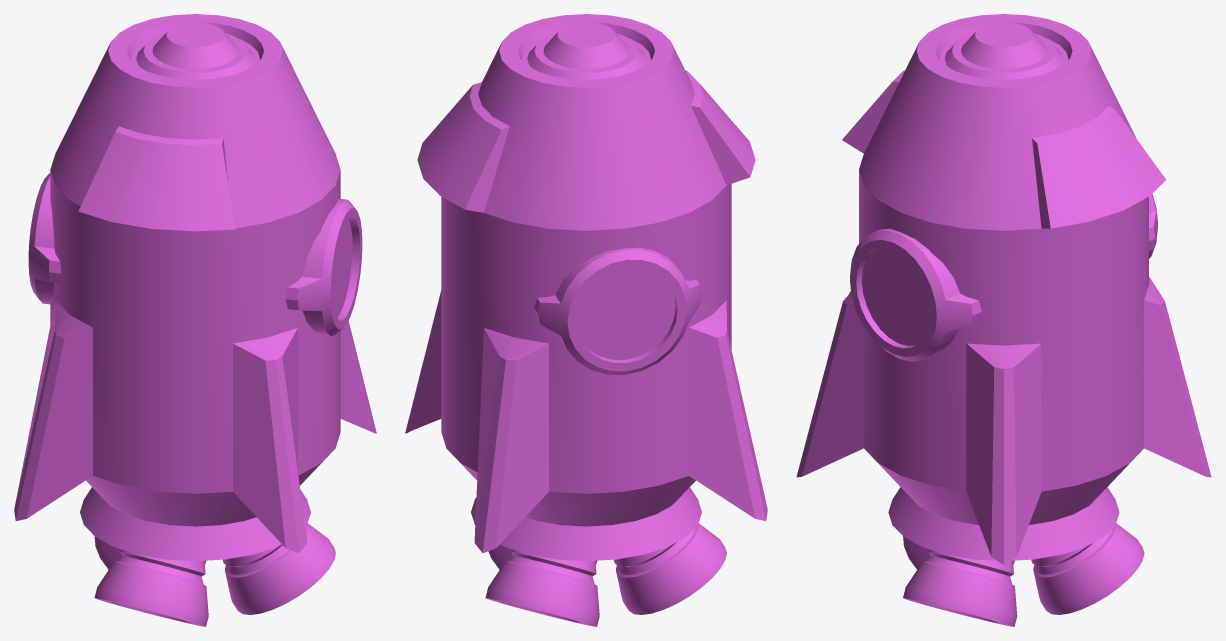
Rendered from Ship_Module.fbx.
3 renders of one model, left to right at view 1: azimuth 30°, elevation 25°; view 2: azimuth 150°, elevation 25°; view 3: azimuth 270°, elevation 25°, orthographic.
Parts seen in each view (by area): view 1: Pod; view 2: Pod; view 3: Pod.
Part boxes in pixels (x1,y1,x2,y2): Pod: (14, 14, 376, 626); Pod: (405, 14, 767, 626); Pod: (796, 14, 1211, 626).
Size of the model in its own units: 286 by 434 by 286.
